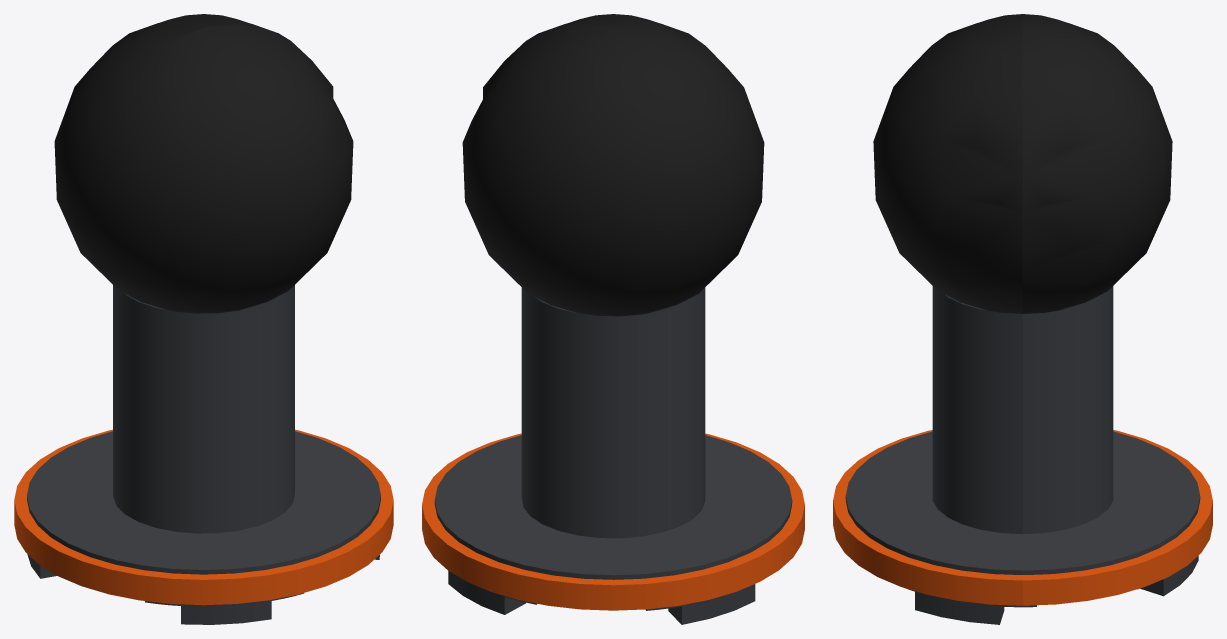
Rendered from module_foot.glb.
The picture shows the model from 3 angles, left to right: view 1: azimuth 30°, elevation 25°; view 2: azimuth 150°, elevation 25°; view 3: azimuth 270°, elevation 25°; orthographic projection.
Visible parts, largest first — view 1: foot_ball, foot_stem, foot_port_in_flange, foot_port_in_ring; view 2: foot_ball, foot_stem, foot_port_in_flange, foot_port_in_ring; view 3: foot_ball, foot_stem, foot_port_in_flange, foot_port_in_ring.
Boxes of the visible parts, x1,y1,x2,y2 form: foot_ball: (54, 14, 353, 313); foot_stem: (113, 285, 294, 533); foot_port_in_flange: (27, 431, 380, 624); foot_port_in_ring: (14, 429, 393, 605); foot_ball: (462, 14, 764, 316); foot_stem: (521, 287, 705, 538); foot_port_in_flange: (434, 435, 792, 624); foot_port_in_ring: (422, 433, 804, 610); foot_ball: (873, 14, 1172, 313); foot_stem: (932, 286, 1113, 534); foot_port_in_flange: (845, 431, 1200, 624); foot_port_in_ring: (833, 430, 1212, 605).
Size of the model in its own units: 0.075 by 0.114 by 0.075.
